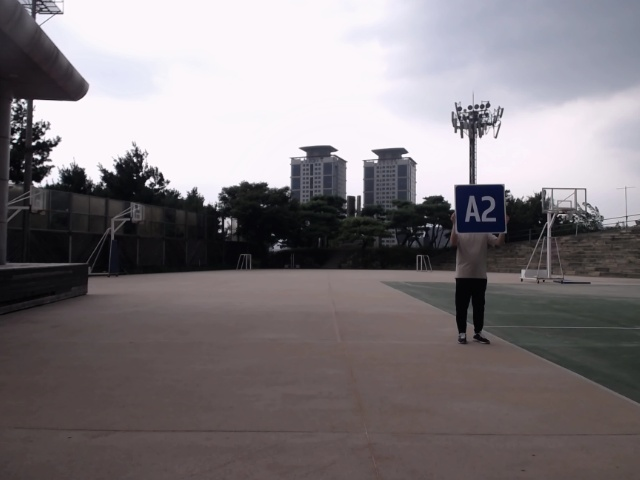delivery_a2: (454, 184, 506, 233)
